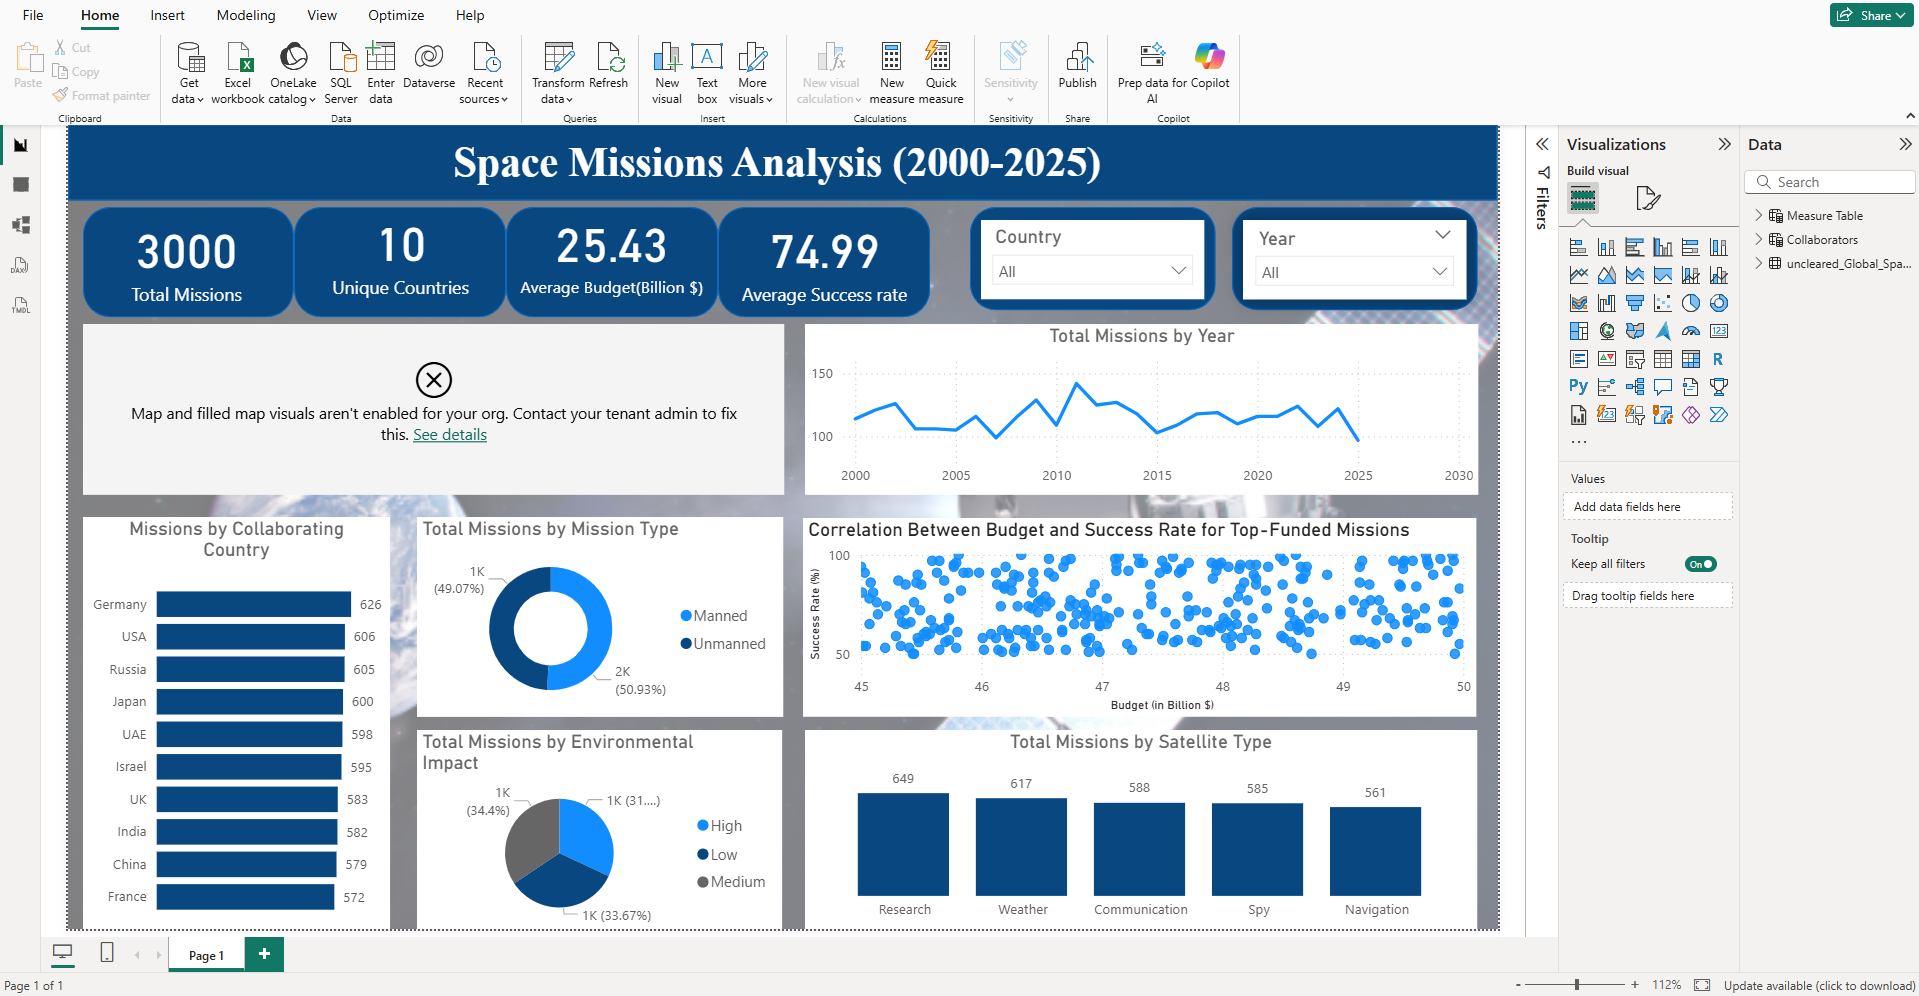

Layout of this report page (visuals, bound fields, positions):
{"tool":"powerbi","page":{"name":"Page 1","canvas":[1280,720],"ordinal":0},"visuals":[{"type":"shape","box":[202.5,73.8,190,98.8],"z":0},{"type":"shape","box":[13.8,73.8,188.8,98.8],"z":1000},{"type":"shape","box":[1042.5,73.8,220,92.5],"z":2000},{"type":"shape","box":[582.5,73.8,190,98.8],"z":3000},{"type":"shape","box":[392.5,73.8,190,98.8],"z":4000},{"type":"shape","box":[0,0,1280,67.6],"z":5000},{"type":"card","fields":{"Values":["Measure Table.Total Missions"]},"box":[0,67.5,212.5,105],"z":6000},{"type":"card","fields":{"Values":["Measure Table.Unique Countries"]},"box":[191.2,61.2,212.5,105],"z":7000},{"type":"card","fields":{"Values":["Measure Table.Average Budget"]},"box":[378.8,61.2,216.2,105],"z":8000},{"type":"card","fields":{"Values":["Measure Table.Average Success rate"]},"box":[571.2,60,212.5,118.8],"z":9000},{"type":"slicer","fields":{"Values":["uncleared_Global_Space_Exploration_Dataset.Year"]},"box":[1052.5,85,200,71.2],"z":10000},{"type":"textbox","box":[340.2,6,600.8,55.5],"z":11000},{"type":"clusteredColumnChart","fields":{"Y":["Measure Table.Total Missions"],"Category":["uncleared_Global_Space_Exploration_Dataset.Satellite Type"]},"box":[659.9,541.7,602,178.6],"z":12000},{"type":"lineChart","fields":{"Category":["uncleared_Global_Space_Exploration_Dataset.Year"],"Y":["Measure Table.Total Missions"]},"box":[660,178.3,603.3,153.3],"z":13000},{"type":"donutChart","fields":{"Series":["uncleared_Global_Space_Exploration_Dataset.Mission Type"],"Y":["Measure Table.Total Missions"]},"box":[312.5,351.2,327.5,178.8],"z":14000},{"type":"pieChart","fields":{"Series":["uncleared_Global_Space_Exploration_Dataset.Environmental Impact"],"Y":["Measure Table.Total Missions"]},"box":[312.5,541.7,326.9,178.6],"z":15000},{"type":"map","title":"Global Distribution of Launch Sites","fields":{"Category":["uncleared_Global_Space_Exploration_Dataset.Launch Site"]},"box":[13.3,178.3,628.3,153.3],"z":17000},{"type":"shape","box":[807.5,73.8,220,92.5],"z":19001},{"type":"slicer","fields":{"Values":["uncleared_Global_Space_Exploration_Dataset.Country"]},"box":[817.5,85,200,71.2],"z":19002},{"type":"barChart","title":"Missions by Collaborating Country","fields":{"Category":["Collaborators.Collaborator"],"Y":["CountNonNull(Collaborators.Mission)"]},"box":[13.8,351.2,275,368.8],"z":19003},{"type":"scatterChart","title":"Correlation Between Budget and Success Rate for Top-Funded Missions","fields":{"X":["uncleared_Global_Space_Exploration_Dataset.Budget (in Billion $)"],"Y":["uncleared_Global_Space_Exploration_Dataset.Success Rate (%)"]},"box":[658.3,351.7,603.3,178.3],"z":19004}]}

Visuals, with their boxes on the page's 1280x720 design canvas (x1, y1, x2, y2). These are canvas units, not pixel positions in the 1919x996 screenshot, which may show the page scaled, cropped or inside an application window:
shape: [x1=202, y1=74, x2=392, y2=173]
shape: [x1=14, y1=74, x2=203, y2=173]
shape: [x1=1042, y1=74, x2=1262, y2=166]
shape: [x1=582, y1=74, x2=772, y2=173]
shape: [x1=392, y1=74, x2=582, y2=173]
shape: [x1=0, y1=0, x2=1280, y2=68]
card - Measure Table.Total Missions: [x1=0, y1=68, x2=212, y2=172]
card - Measure Table.Unique Countries: [x1=191, y1=61, x2=404, y2=166]
card - Measure Table.Average Budget: [x1=379, y1=61, x2=595, y2=166]
card - Measure Table.Average Success rate: [x1=571, y1=60, x2=784, y2=179]
slicer - uncleared_Global_Space_Exploration_Dataset.Year: [x1=1052, y1=85, x2=1252, y2=156]
textbox: [x1=340, y1=6, x2=941, y2=62]
clusteredColumnChart - Measure Table.Total Missions x uncleared_Global_Space_Exploration_Dataset.Satellite Type: [x1=660, y1=542, x2=1262, y2=720]
lineChart - uncleared_Global_Space_Exploration_Dataset.Year x Measure Table.Total Missions: [x1=660, y1=178, x2=1263, y2=332]
donutChart - uncleared_Global_Space_Exploration_Dataset.Mission Type x Measure Table.Total Missions: [x1=312, y1=351, x2=640, y2=530]
pieChart - uncleared_Global_Space_Exploration_Dataset.Environmental Impact x Measure Table.Total Missions: [x1=312, y1=542, x2=639, y2=720]
"Global Distribution of Launch Sites" map: [x1=13, y1=178, x2=642, y2=332]
shape: [x1=808, y1=74, x2=1028, y2=166]
slicer - uncleared_Global_Space_Exploration_Dataset.Country: [x1=818, y1=85, x2=1018, y2=156]
"Missions by Collaborating Country" barChart: [x1=14, y1=351, x2=289, y2=720]
"Correlation Between Budget and Success Rate for Top-Funded Missions" scatterChart: [x1=658, y1=352, x2=1262, y2=530]
